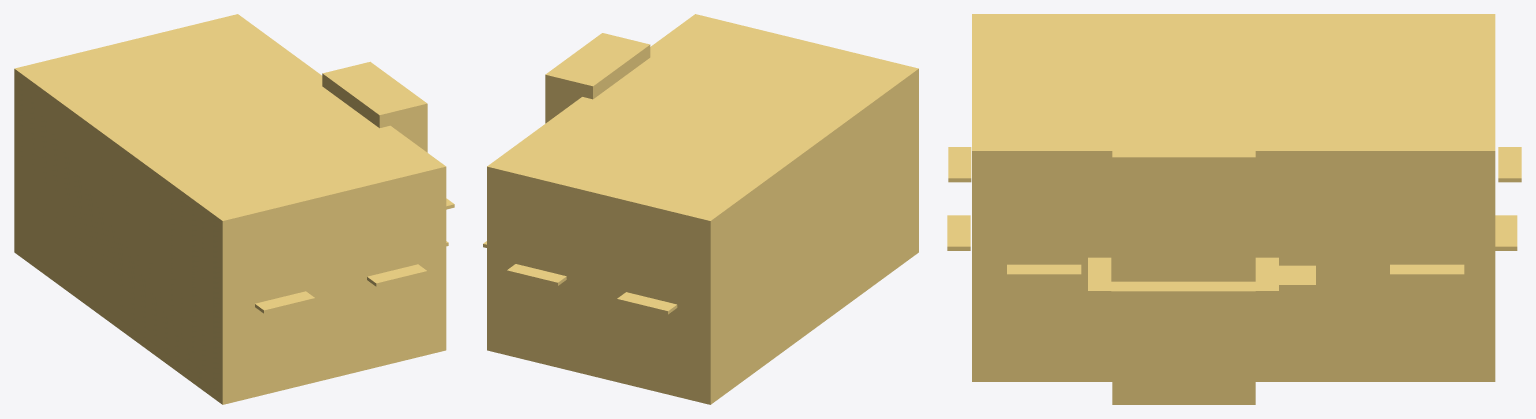
Rendered from R&DCenterNav.glb.
3 renders of one model, left to right at view 1: azimuth 30°, elevation 25°; view 2: azimuth 150°, elevation 25°; view 3: azimuth 270°, elevation 25°, orthographic. The views are drawn at different scales.
Parts seen in each view (by area): view 1: Cube.009; view 2: Cube.009; view 3: Cube.009.
Boxes of the visible parts, x1,y1,x2,y2 form: Cube.009: (14,14,454,404); Cube.009: (483,14,918,404); Cube.009: (947,14,1521,404).
Bounding box in the file's own units: 8.71 × 5.9 × 12.4.
